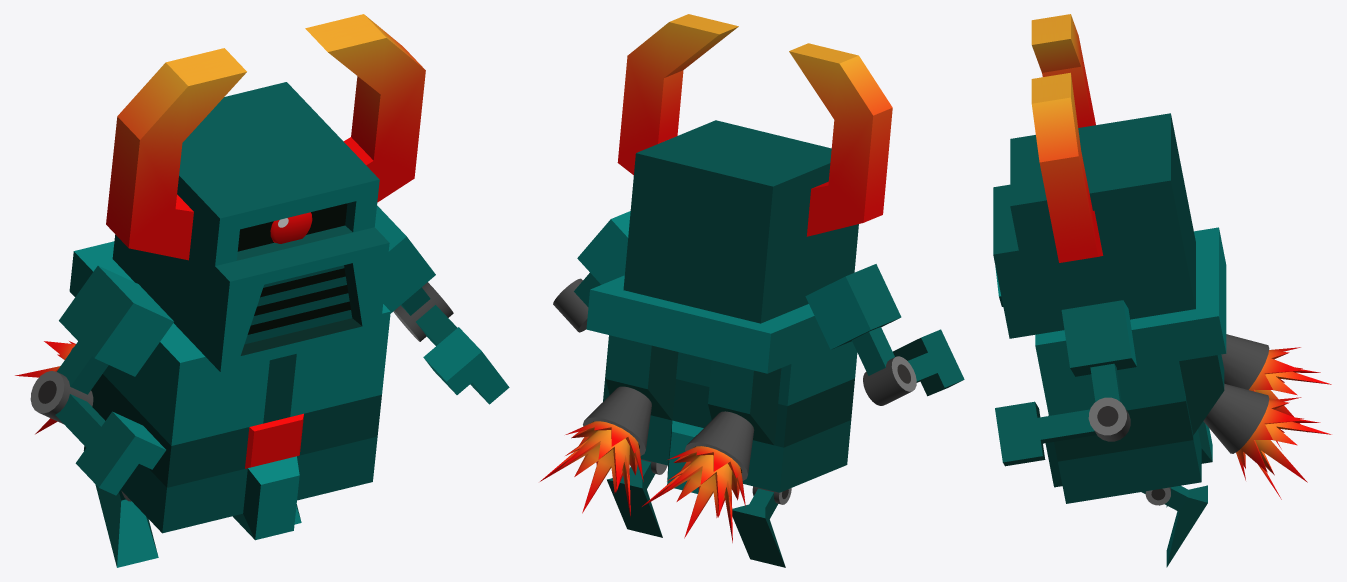
Rendered from Ch_216@Down.FBX.
3 renders of one model, left to right at view 1: azimuth 30°, elevation 25°; view 2: azimuth 150°, elevation 25°; view 3: azimuth 270°, elevation 25°, orthographic. The views are drawn at different scales.
Visible parts, largest first — view 1: Ch_206_Head, Ch_206, Ch_206_Arm_L, Ch_206_Jaw_L, Ch_206_Jaw_R, Ch_206_Arm_R, Ch_206_Leg_L, Ch_206_Eye_01, Ch_216_Fire_R; view 2: Ch_206, Ch_206_Head, Ch_206_Jaw_L, Ch_206_Arm_L, Ch_206_Jaw_R, Ch_206_Arm_R, Ch_216_Fire_R, Ch_216_Fire_L, Ch_206_Leg_L, Ch_206_Leg_R; view 3: Ch_206_Head, Ch_206, Ch_206_Arm_R, Ch_206_Jaw_R, Ch_206_Jaw_L, Ch_216_Fire_L, Ch_206_Leg_R, Ch_216_Fire_R.
Boxes of the visible parts, bbox=[...] form: Ch_206_Head: bbox=[112, 82, 389, 372]; Ch_206: bbox=[69, 241, 390, 540]; Ch_206_Arm_L: bbox=[30, 265, 173, 495]; Ch_206_Jaw_L: bbox=[106, 48, 246, 260]; Ch_206_Jaw_R: bbox=[305, 14, 425, 202]; Ch_206_Arm_R: bbox=[375, 205, 509, 404]; Ch_206_Leg_L: bbox=[95, 484, 158, 567]; Ch_206_Eye_01: bbox=[270, 212, 312, 243]; Ch_216_Fire_R: bbox=[15, 341, 75, 434]; Ch_206: bbox=[583, 275, 857, 493]; Ch_206_Head: bbox=[623, 120, 858, 323]; Ch_206_Jaw_L: bbox=[789, 43, 892, 236]; Ch_206_Arm_L: bbox=[805, 264, 964, 405]; Ch_206_Jaw_R: bbox=[617, 14, 738, 175]; Ch_206_Arm_R: bbox=[553, 211, 630, 332]; Ch_216_Fire_R: bbox=[642, 446, 745, 542]; Ch_216_Fire_L: bbox=[540, 421, 643, 516]; Ch_206_Leg_L: bbox=[732, 486, 791, 567]; Ch_206_Leg_R: bbox=[607, 459, 667, 537]; Ch_206_Head: bbox=[993, 113, 1195, 338]; Ch_206: bbox=[1035, 227, 1269, 503]; Ch_206_Arm_R: bbox=[995, 300, 1136, 466]; Ch_206_Jaw_R: bbox=[1031, 72, 1103, 262]; Ch_206_Jaw_L: bbox=[1031, 14, 1095, 127]; Ch_216_Fire_L: bbox=[1236, 397, 1331, 499]; Ch_206_Leg_R: bbox=[1141, 485, 1207, 567]; Ch_216_Fire_R: bbox=[1249, 347, 1331, 449].
Bounding box in the file's own units: 10.61 × 13.42 × 8.72.
